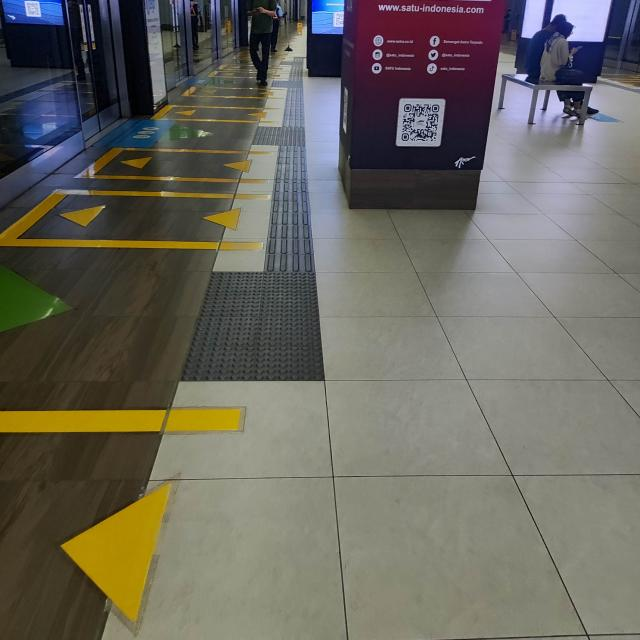lurus: (264, 50, 314, 273)
